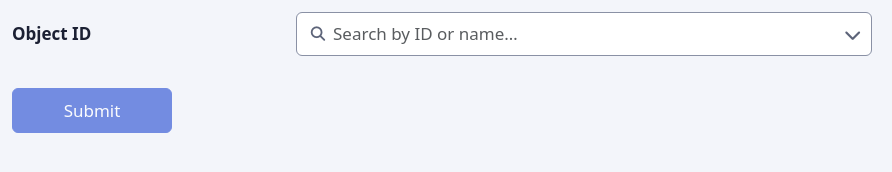
Test case: still allows typing when the objects cannot be loaded
The width and height of the screenshot is (892, 172).
Later steps or results of the test are not shown.
Step 1. Click the dropdown labelled "Object ID" → (584, 34), box [296,12,872,56]
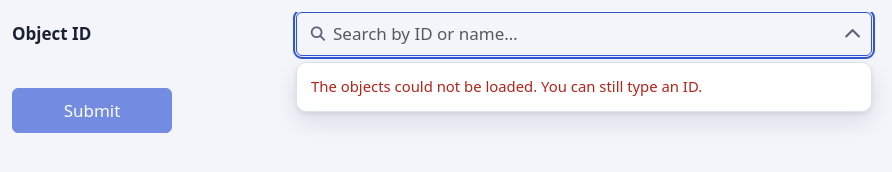
Check: the message reads "The objects could not be loaded. You can still type an ID.", box [311,76,702,96]
